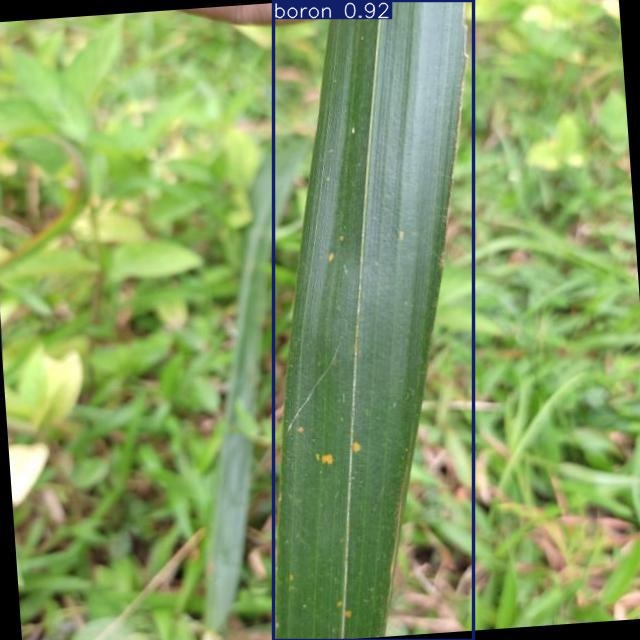nitrogen: (273, 1, 473, 640)
